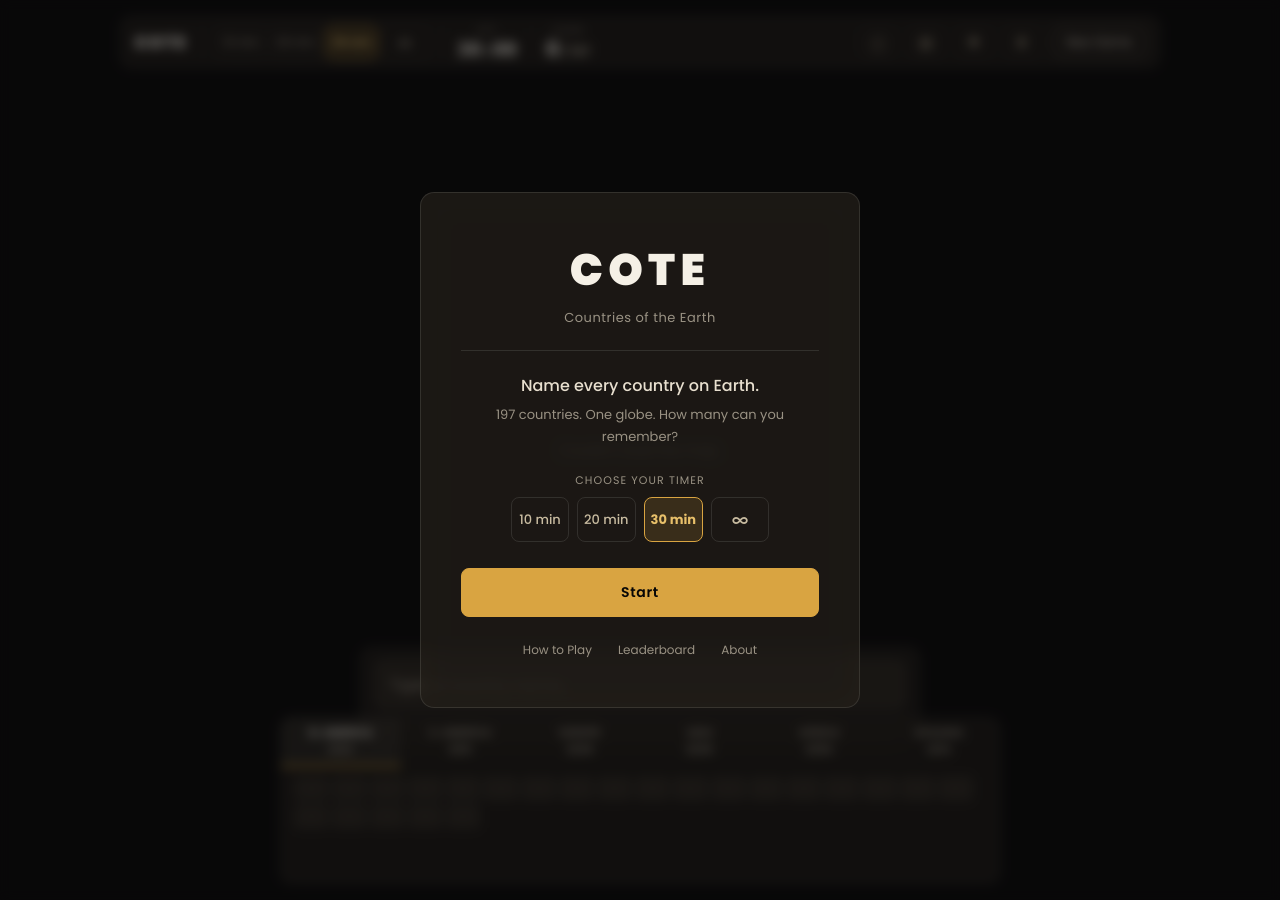
Test: App — modals & onboarding › opens instructions and closes on Escape
This screenshot has width=1280, height=900.
Click the button "Start": point(640, 593) left=461, top=568, right=819, bottom=617
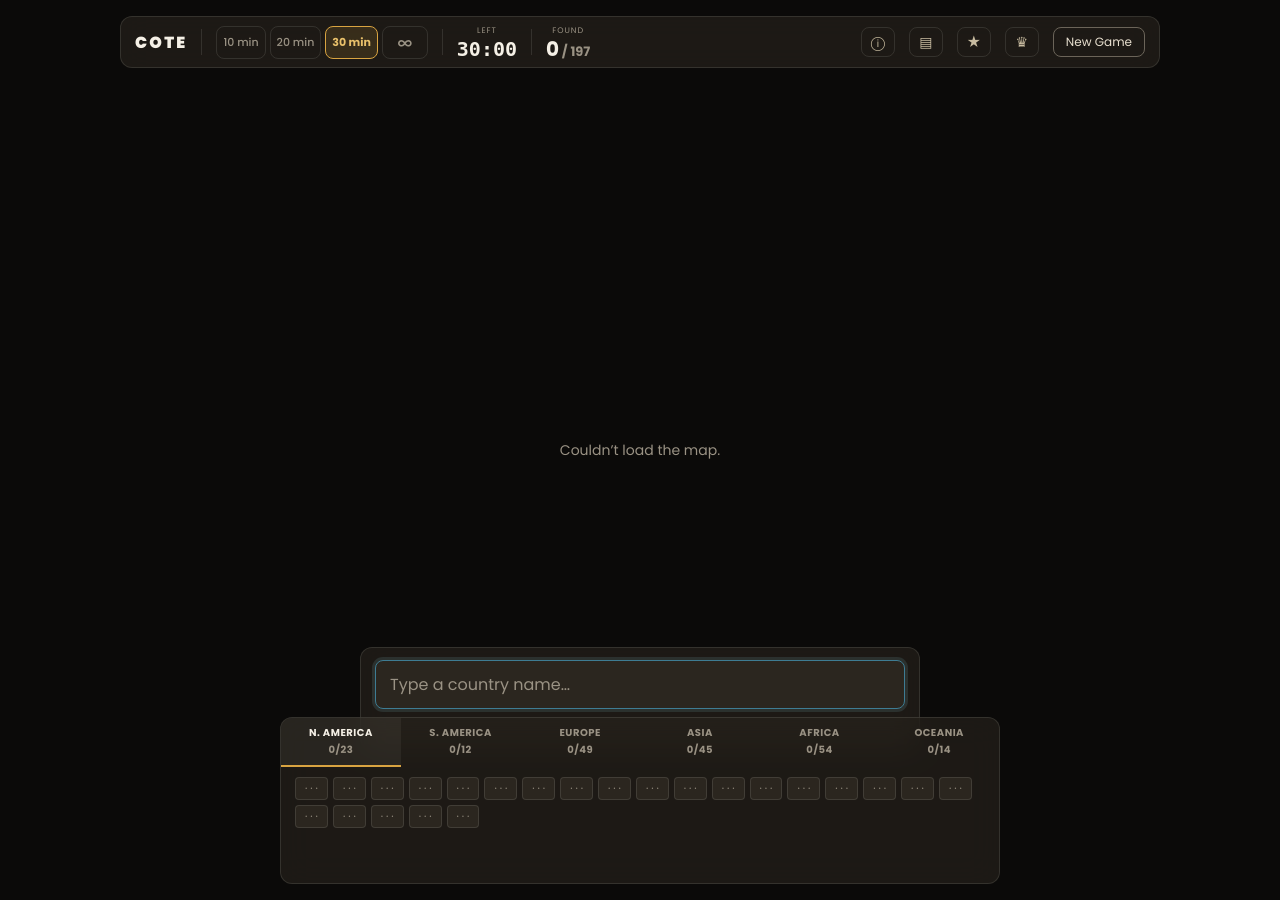
Click the button named "How to play": point(878, 42) left=861, top=27, right=895, bottom=57
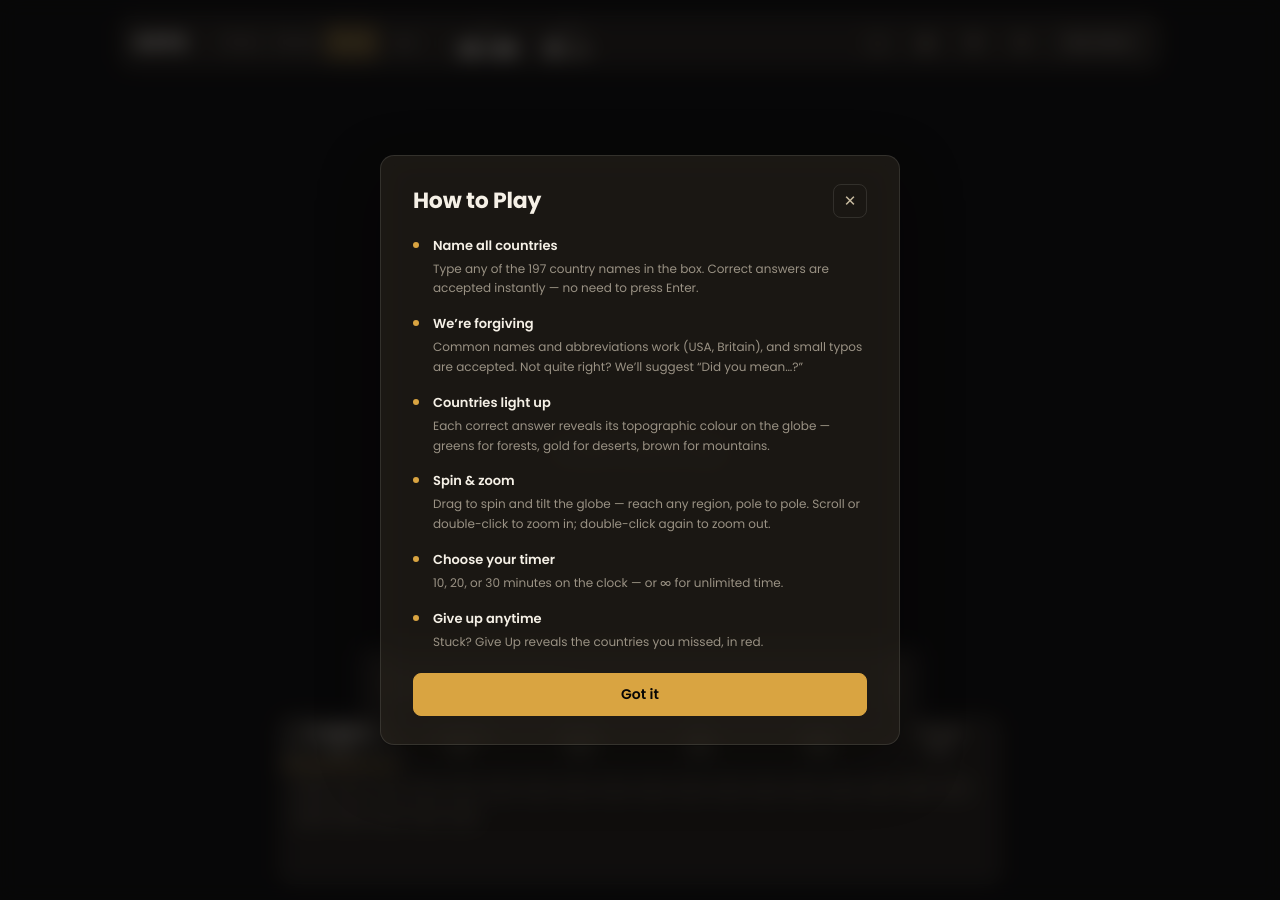
Now the heading "How to Play" is shown, box left=413, top=184, right=541, bottom=217
Press Escape
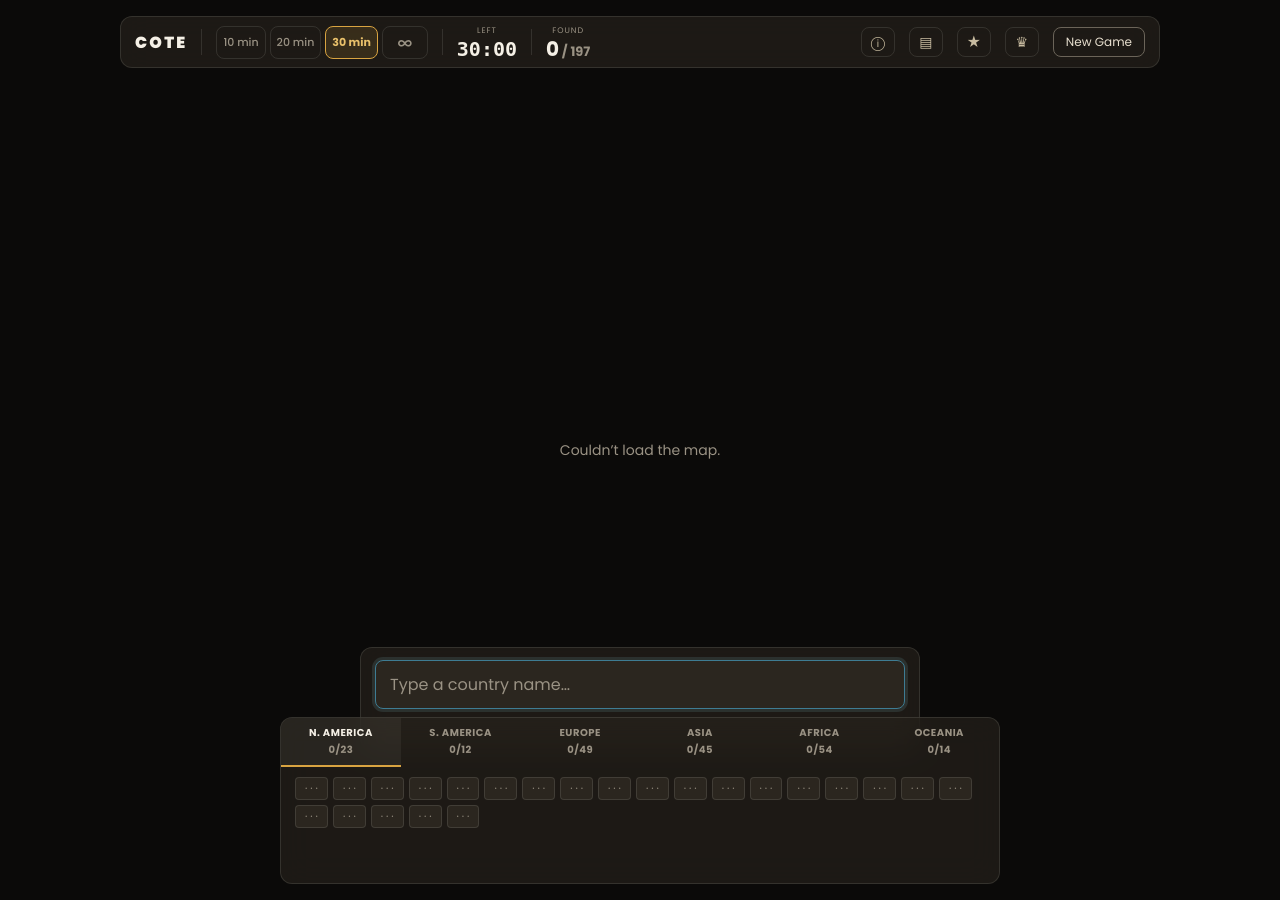
Now the heading "How to Play" is gone
